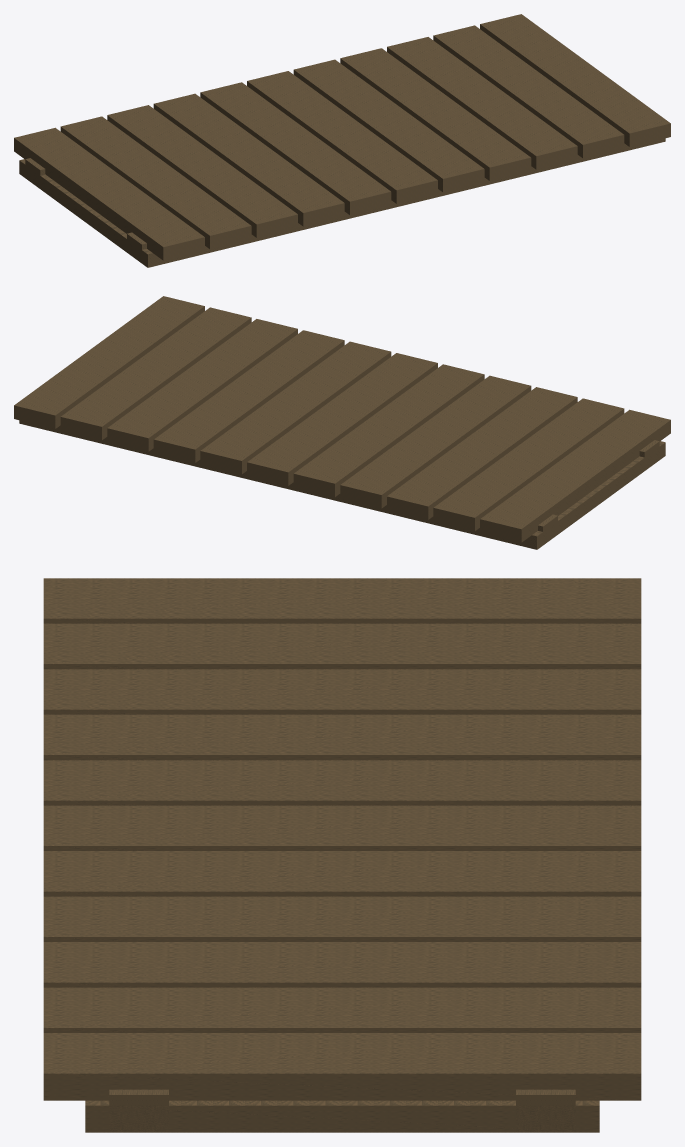
File: duckboard.glb
3 renders of one model, top to bottom at view 1: azimuth 30°, elevation 25°; view 2: azimuth 150°, elevation 25°; view 3: azimuth 270°, elevation 25°, orthographic. The views are drawn at different scales.
Parts seen in each view (by area): view 1: LOD0; view 2: LOD0; view 3: LOD0.
Boxes of the visible parts, x1,y1,x2,y2 form: LOD0: (14, 14, 670, 267); LOD0: (14, 296, 670, 549); LOD0: (43, 578, 641, 1132).
Bounding box in the file's own units: 2 × 0.1 × 1.
Materials: 1 (1 with a texture image).
